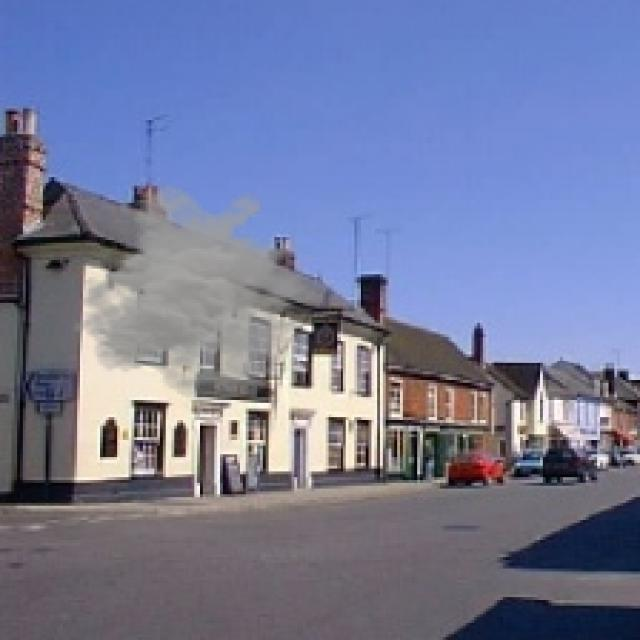Smoke: (68, 183, 332, 403)
